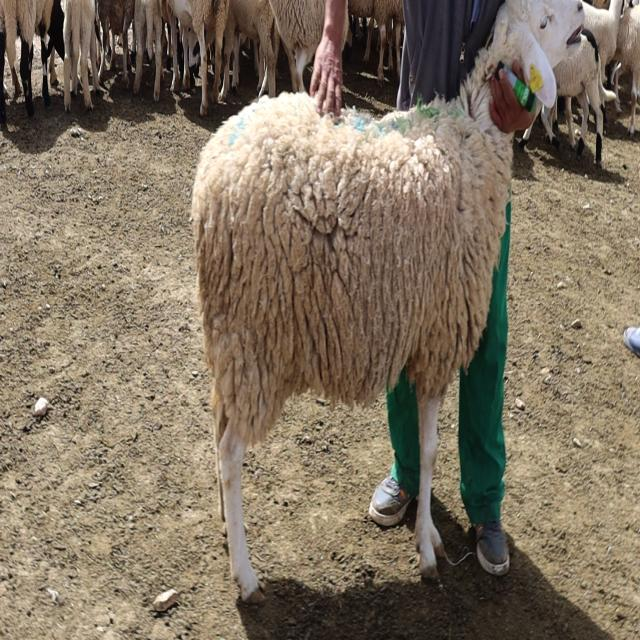Score_2: (192, 0, 584, 601)
